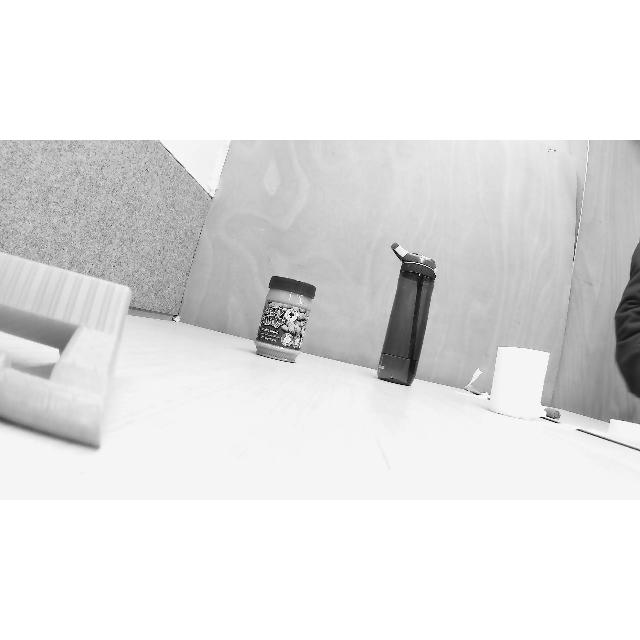targets: (0, 250, 136, 448), (378, 239, 442, 387), (252, 272, 318, 368), (486, 346, 554, 422)
